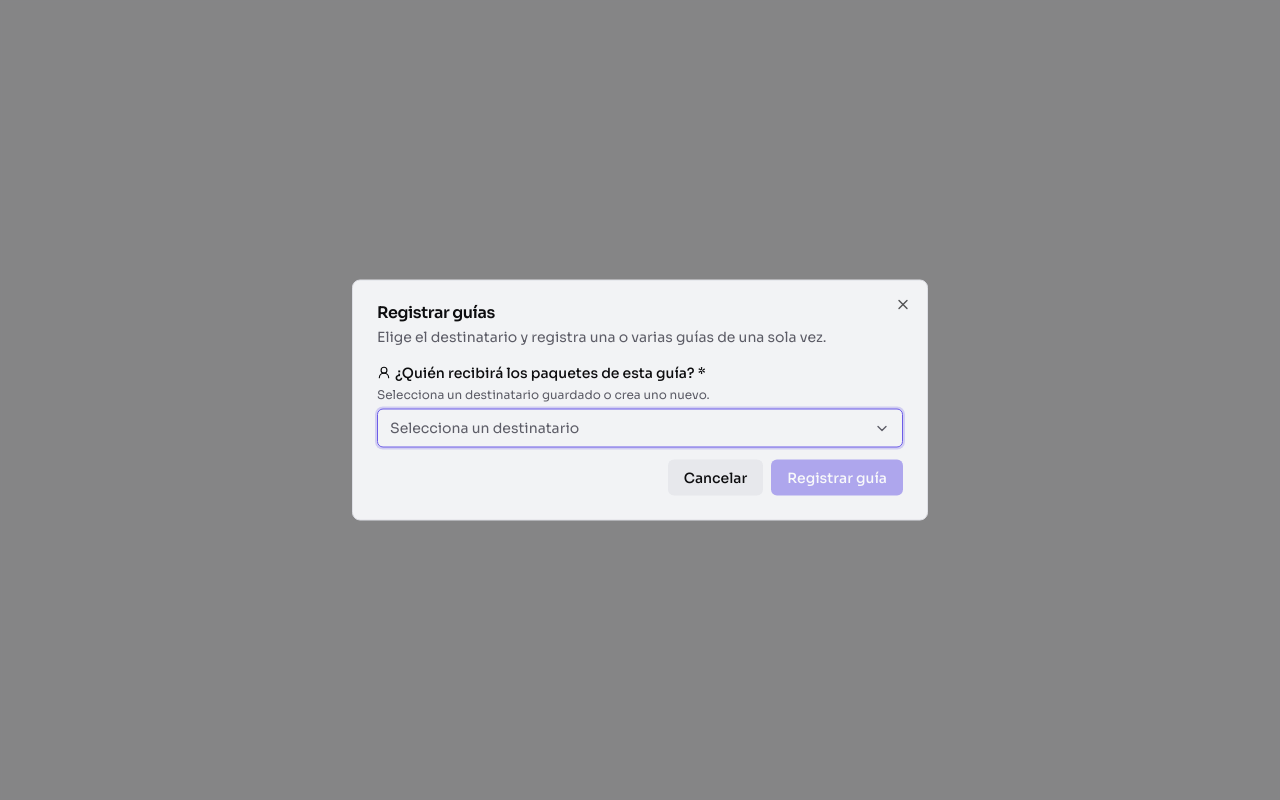
Scenario: RegistrarMisGuiasDialog · ayuda de número de guía › abre la ayuda sin cerrar el formulario ni perder los datos escritos
Click the button named "quién recibirá" at (485, 428), box [377, 408, 903, 448]
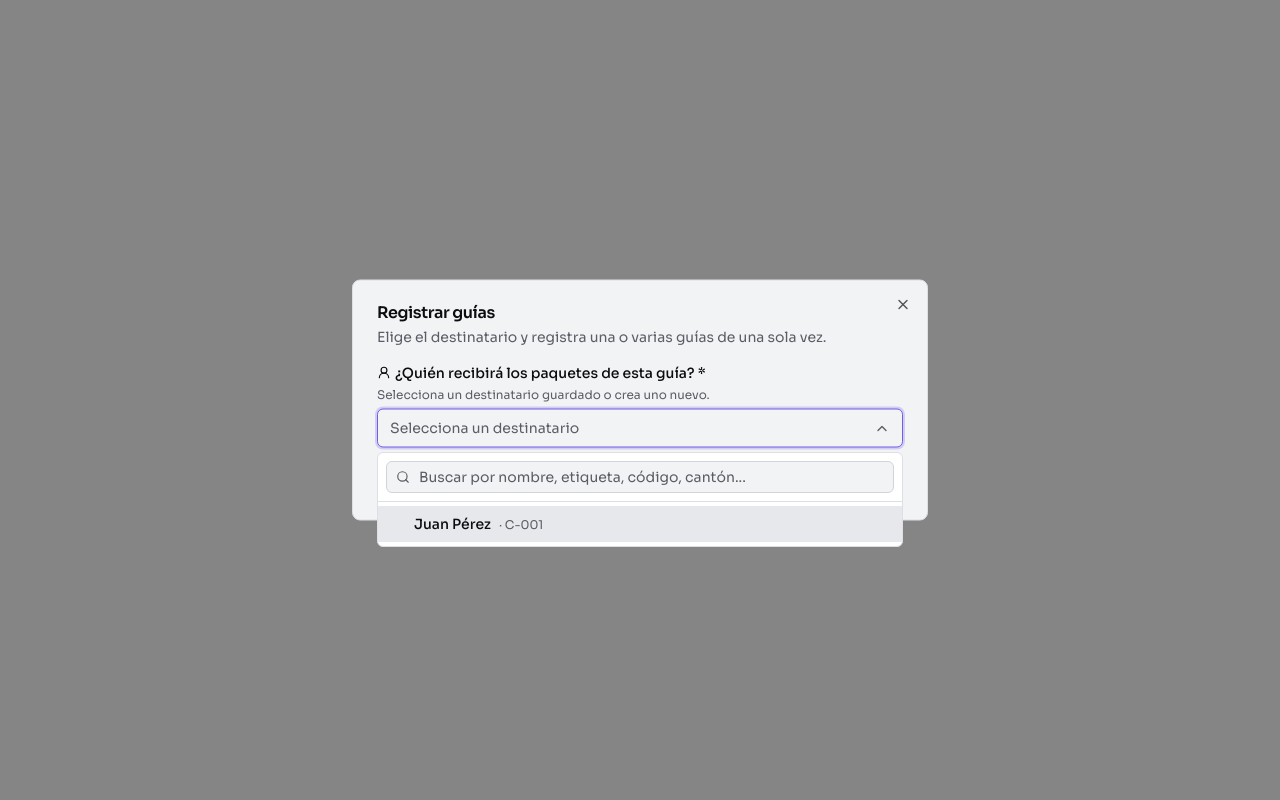
Click the text "Juan Pérez" at (452, 524), box [414, 514, 491, 534]
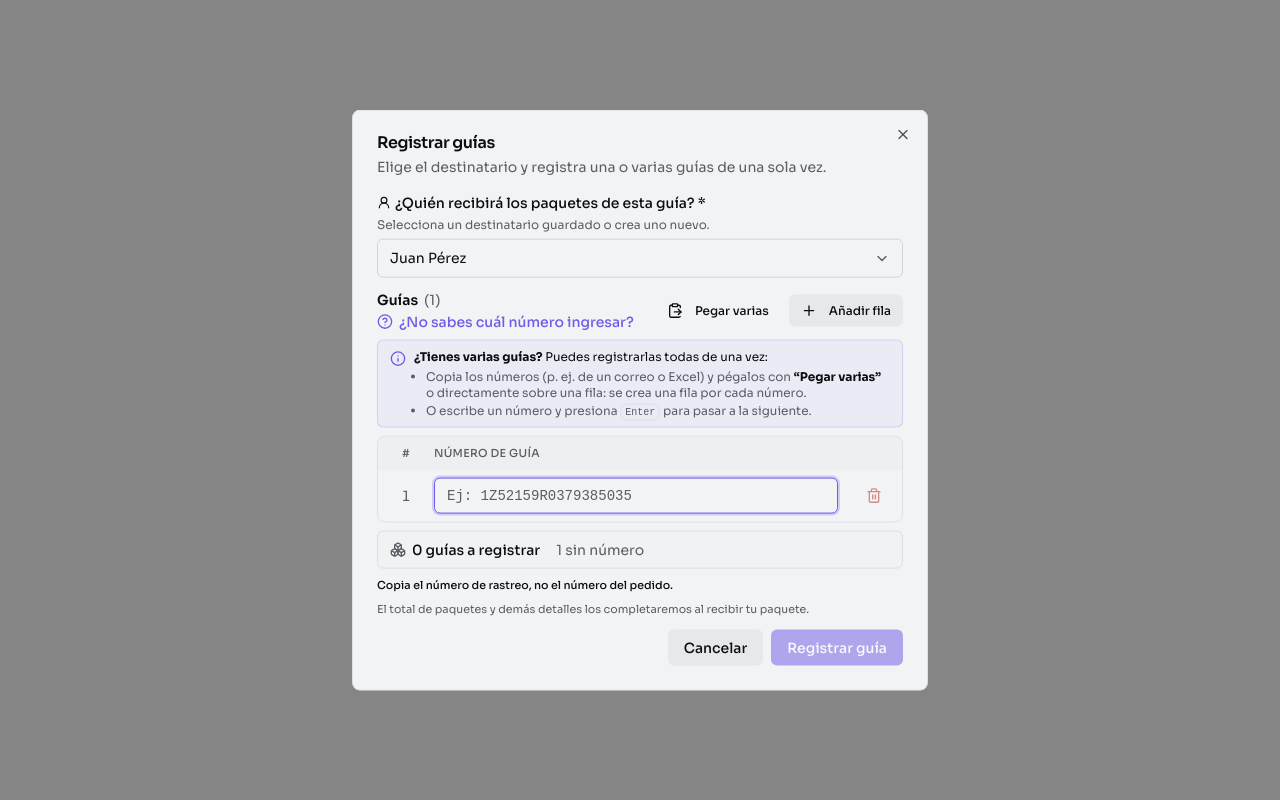
Type "1Z999AA10123456784" into the field with placeholder "Ej: 1Z52159R0379385035" at (636, 495), box [434, 477, 838, 513]
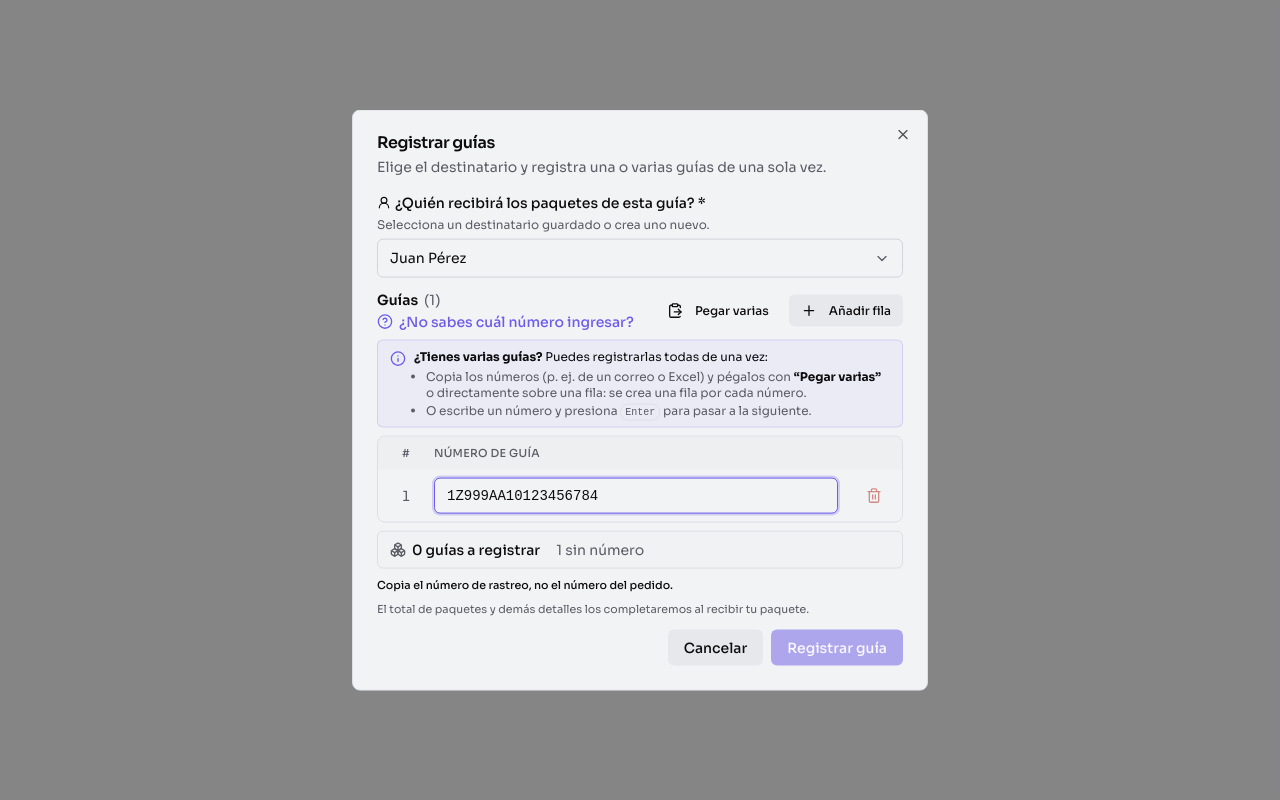
Click the button "¿No sabes cuál número ingresar?" at (505, 322), box [377, 312, 634, 332]
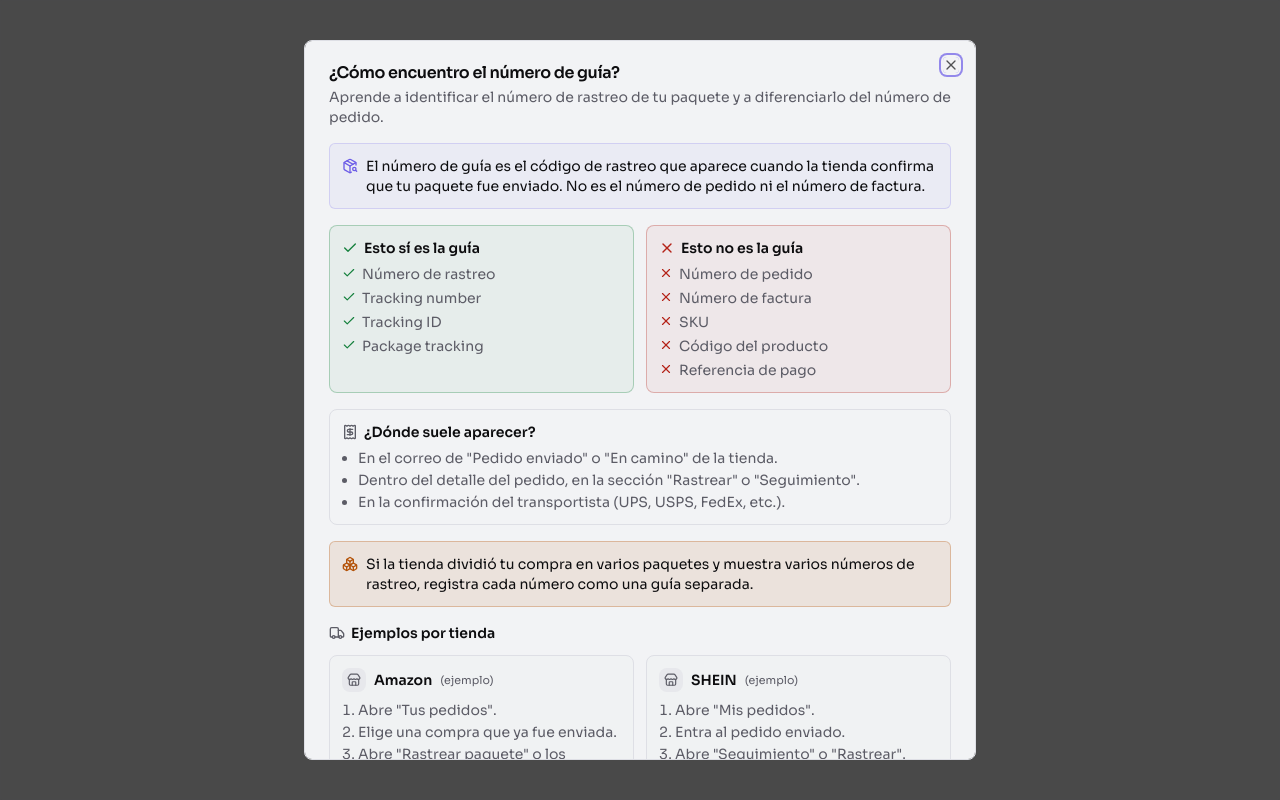
Expected: the text "¿Dónde suele aparecer?" is shown, [342, 423, 536, 441]
Press Escape
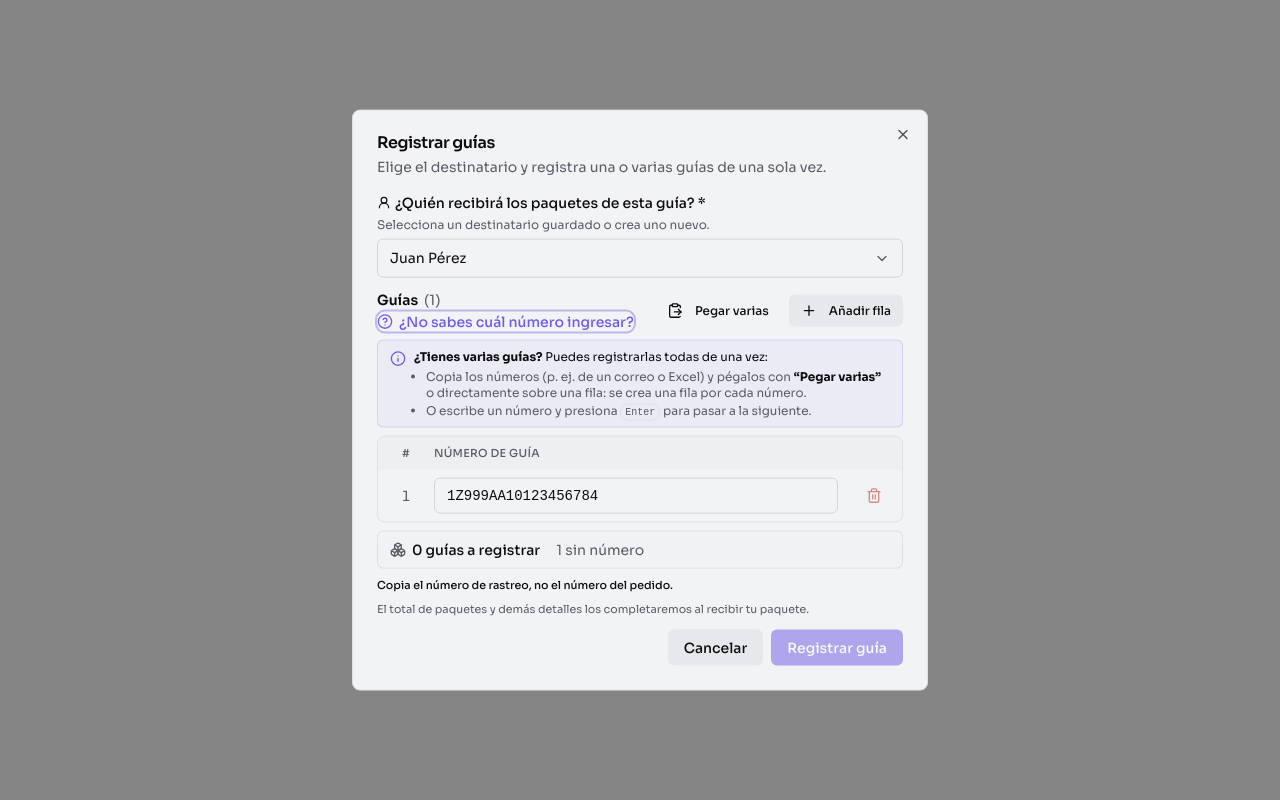
Expected: the text "¿Dónde suele aparecer?" is gone
